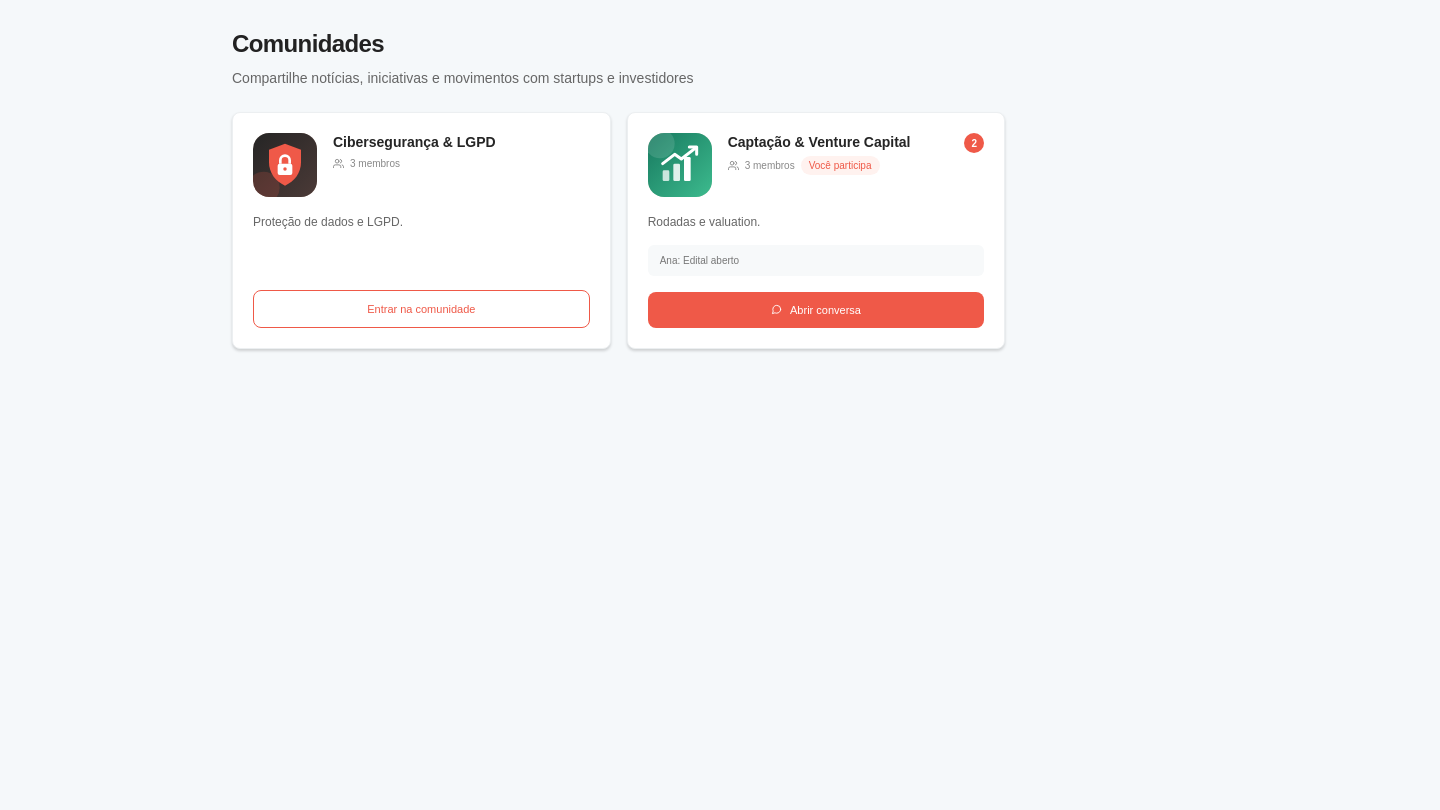
lista de comunidades › entrar na comunidade abre a conversa do grupo
The image size is (1440, 810).
Click the button with aria-label "Entrar na comunidade Cibersegurança & LGPD" at {"x": 421, "y": 309}, box 253,290 -> 590,328
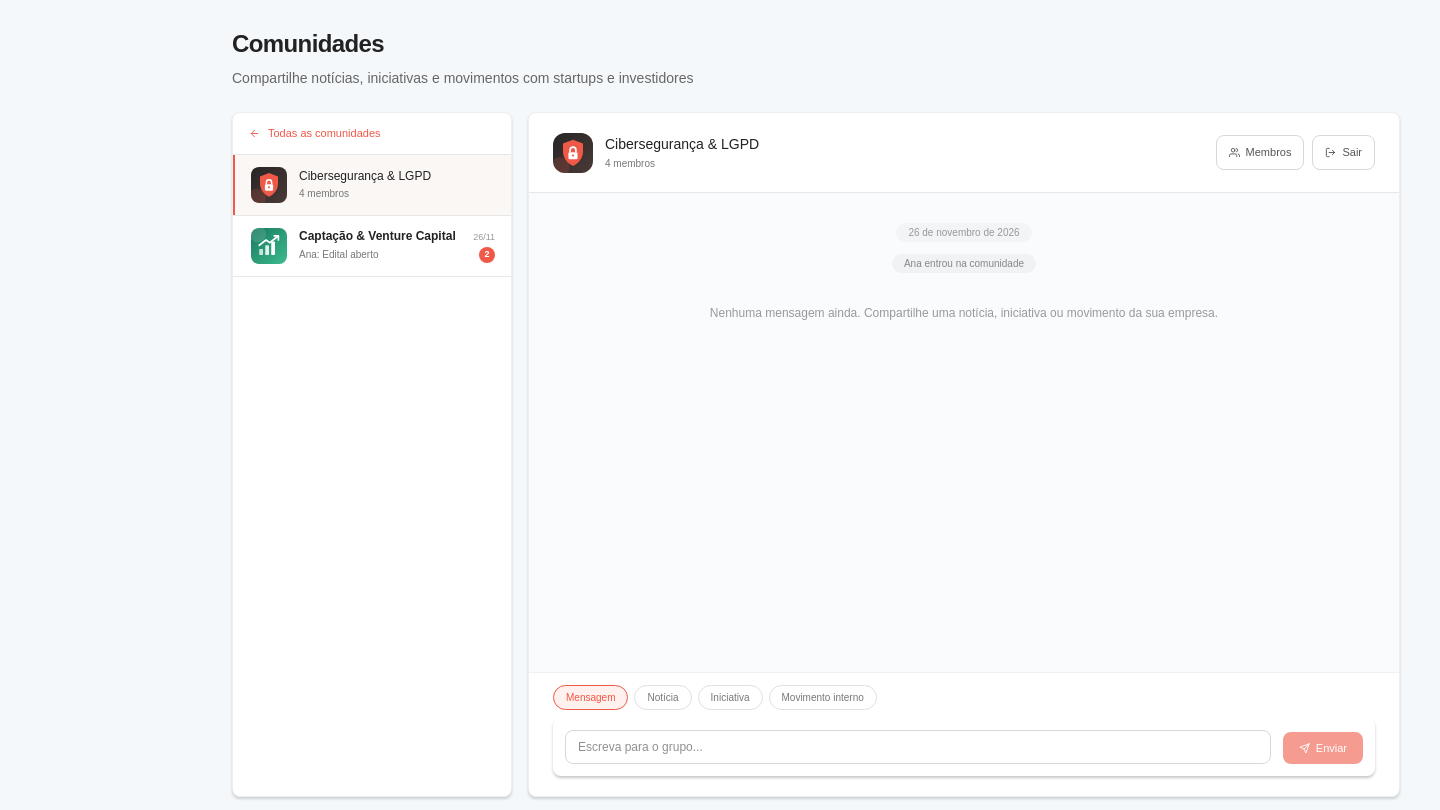
Expected: the text "Ana entrou na comunidade" is shown, 892,254 -> 1036,273
Expected: the element named "Comunidade Cibersegurança & LGPD" is shown, 528,112 -> 1400,797
Expected: the text "Nenhuma mensagem ainda" is shown, 710,306 -> 1218,320
